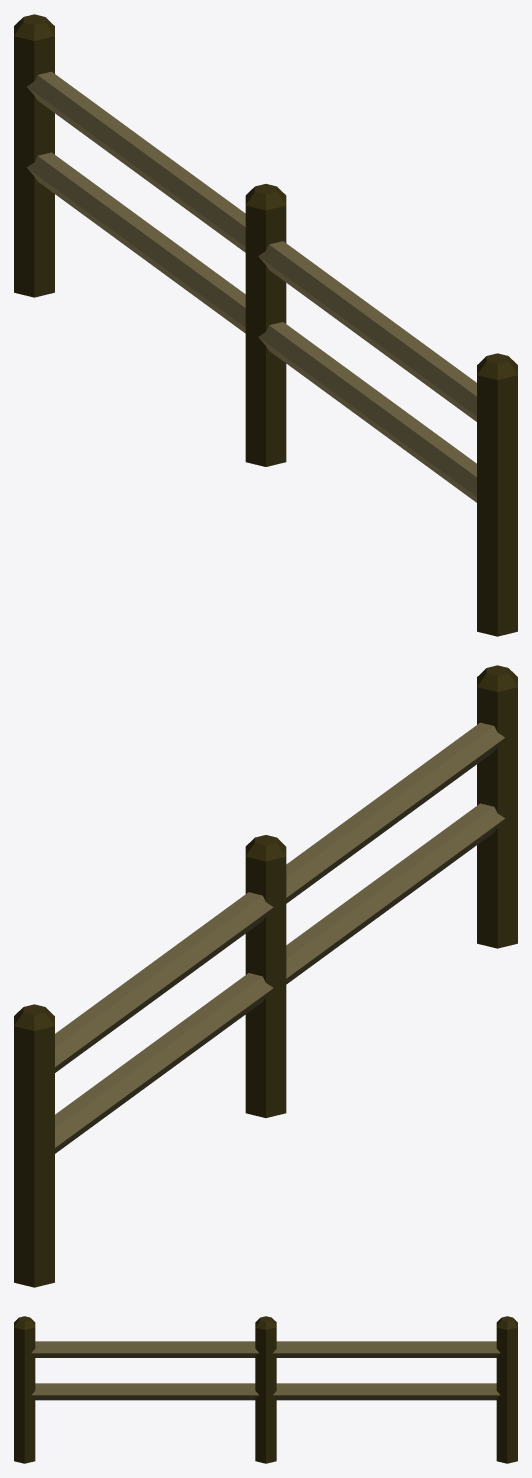
File: cerca.fbx
The picture shows the model from 3 angles, top to bottom: view 1: azimuth 30°, elevation 25°; view 2: azimuth 150°, elevation 25°; view 3: azimuth 270°, elevation 25°; orthographic projection. The views are drawn at different scales.
Parts seen in each view (by area): view 1: cerca2, cerca3, inicio; view 2: cerca3, cerca2, inicio; view 3: cerca3, cerca2, inicio.
Part boxes in pixels (box(x1,y1,x2,y2)): cerca2: box(245, 184, 476, 502); cerca3: box(14, 14, 245, 333); inicio: box(477, 353, 517, 636); cerca3: box(14, 892, 273, 1287); cerca2: box(245, 722, 504, 1117); inicio: box(477, 665, 517, 948); cerca3: box(273, 1316, 517, 1463); cerca2: box(31, 1316, 276, 1463); inicio: box(14, 1316, 35, 1463).
Bounding box in the file's own units: 0.2 × 1.25 × 4.1.
